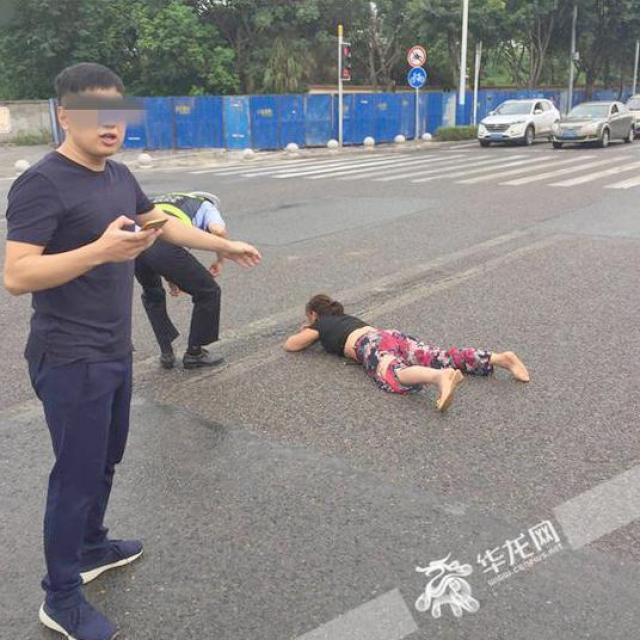fall: (292, 294, 514, 414)
